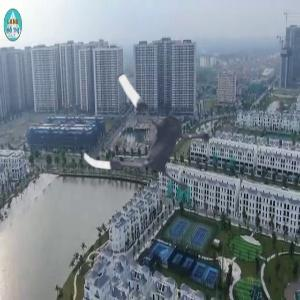drone: (79, 62, 229, 212)
